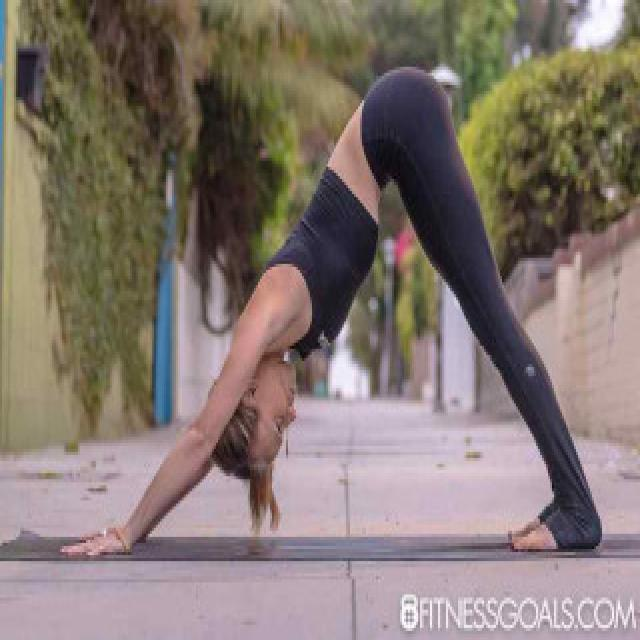yoga-pose downward: (78, 62, 606, 560)
